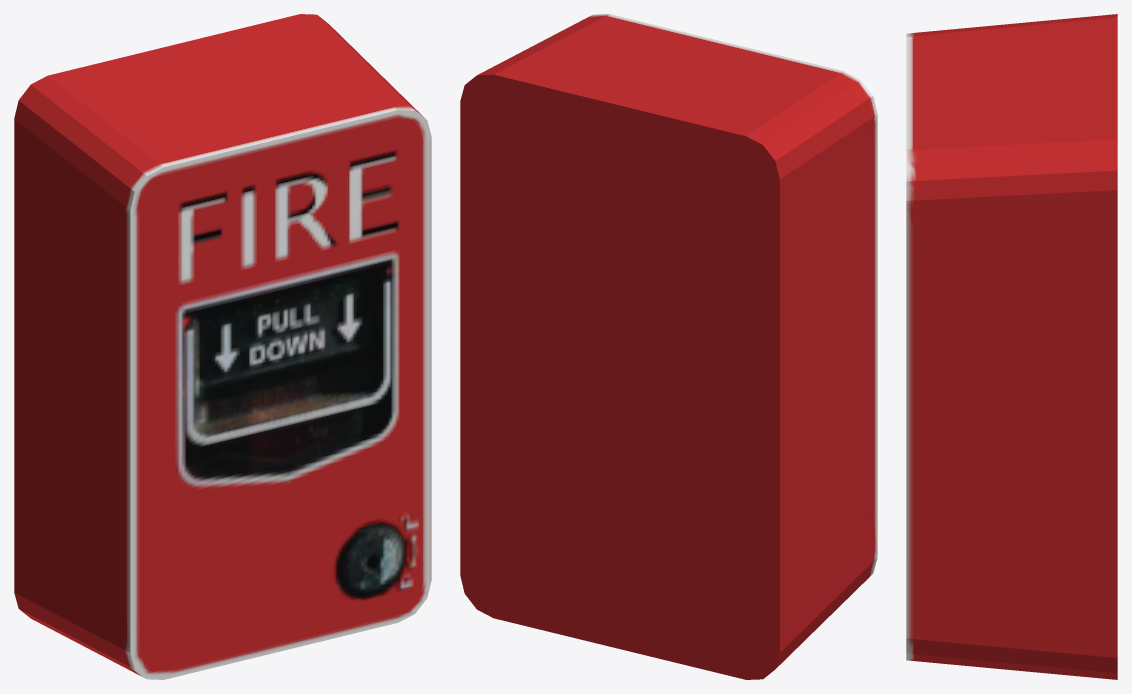
File: FireAlarmRed.fbx
The picture shows the model from 3 angles, left to right: view 1: azimuth 30°, elevation 25°; view 2: azimuth 150°, elevation 25°; view 3: azimuth 270°, elevation 25°; orthographic projection.
Visible parts, largest first — view 1: FireAlarmRed; view 2: FireAlarmRed; view 3: FireAlarmRed.
Part boxes in pixels (x1,y1,x2,y2): FireAlarmRed: [14, 14, 431, 679]; FireAlarmRed: [460, 14, 877, 679]; FireAlarmRed: [906, 14, 1117, 679].
Bounding box in the file's own units: 0.0848 × 0.1378 × 0.0492.
